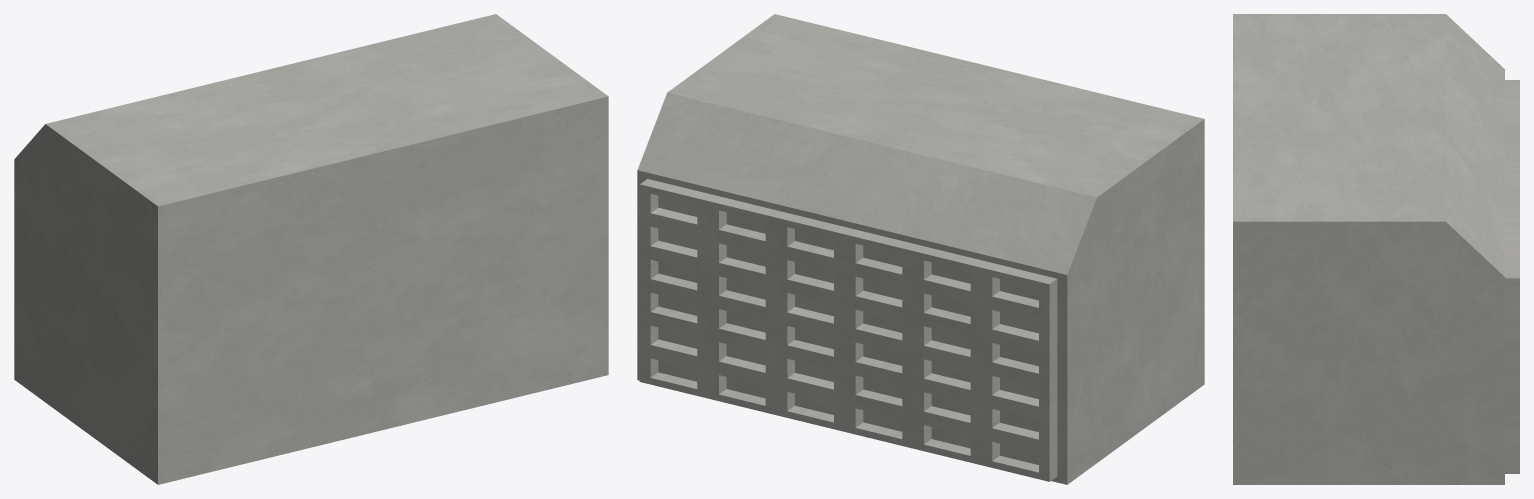
3 renders of one model, left to right at view 1: azimuth 30°, elevation 25°; view 2: azimuth 150°, elevation 25°; view 3: azimuth 270°, elevation 25°, orthographic. The views are drawn at different scales.
Visible parts, largest first — view 1: Cube.004; view 2: Cube.004; view 3: Cube.004.
Part boxes in pixels (box(x1,y1,x2,y2)): Cube.004: box(14, 14, 608, 484); Cube.004: box(637, 14, 1204, 484); Cube.004: box(1233, 14, 1519, 484).
Size of the model in its own units: 1.09 by 0.6441 by 0.6365.
1 material, 1 textured.
